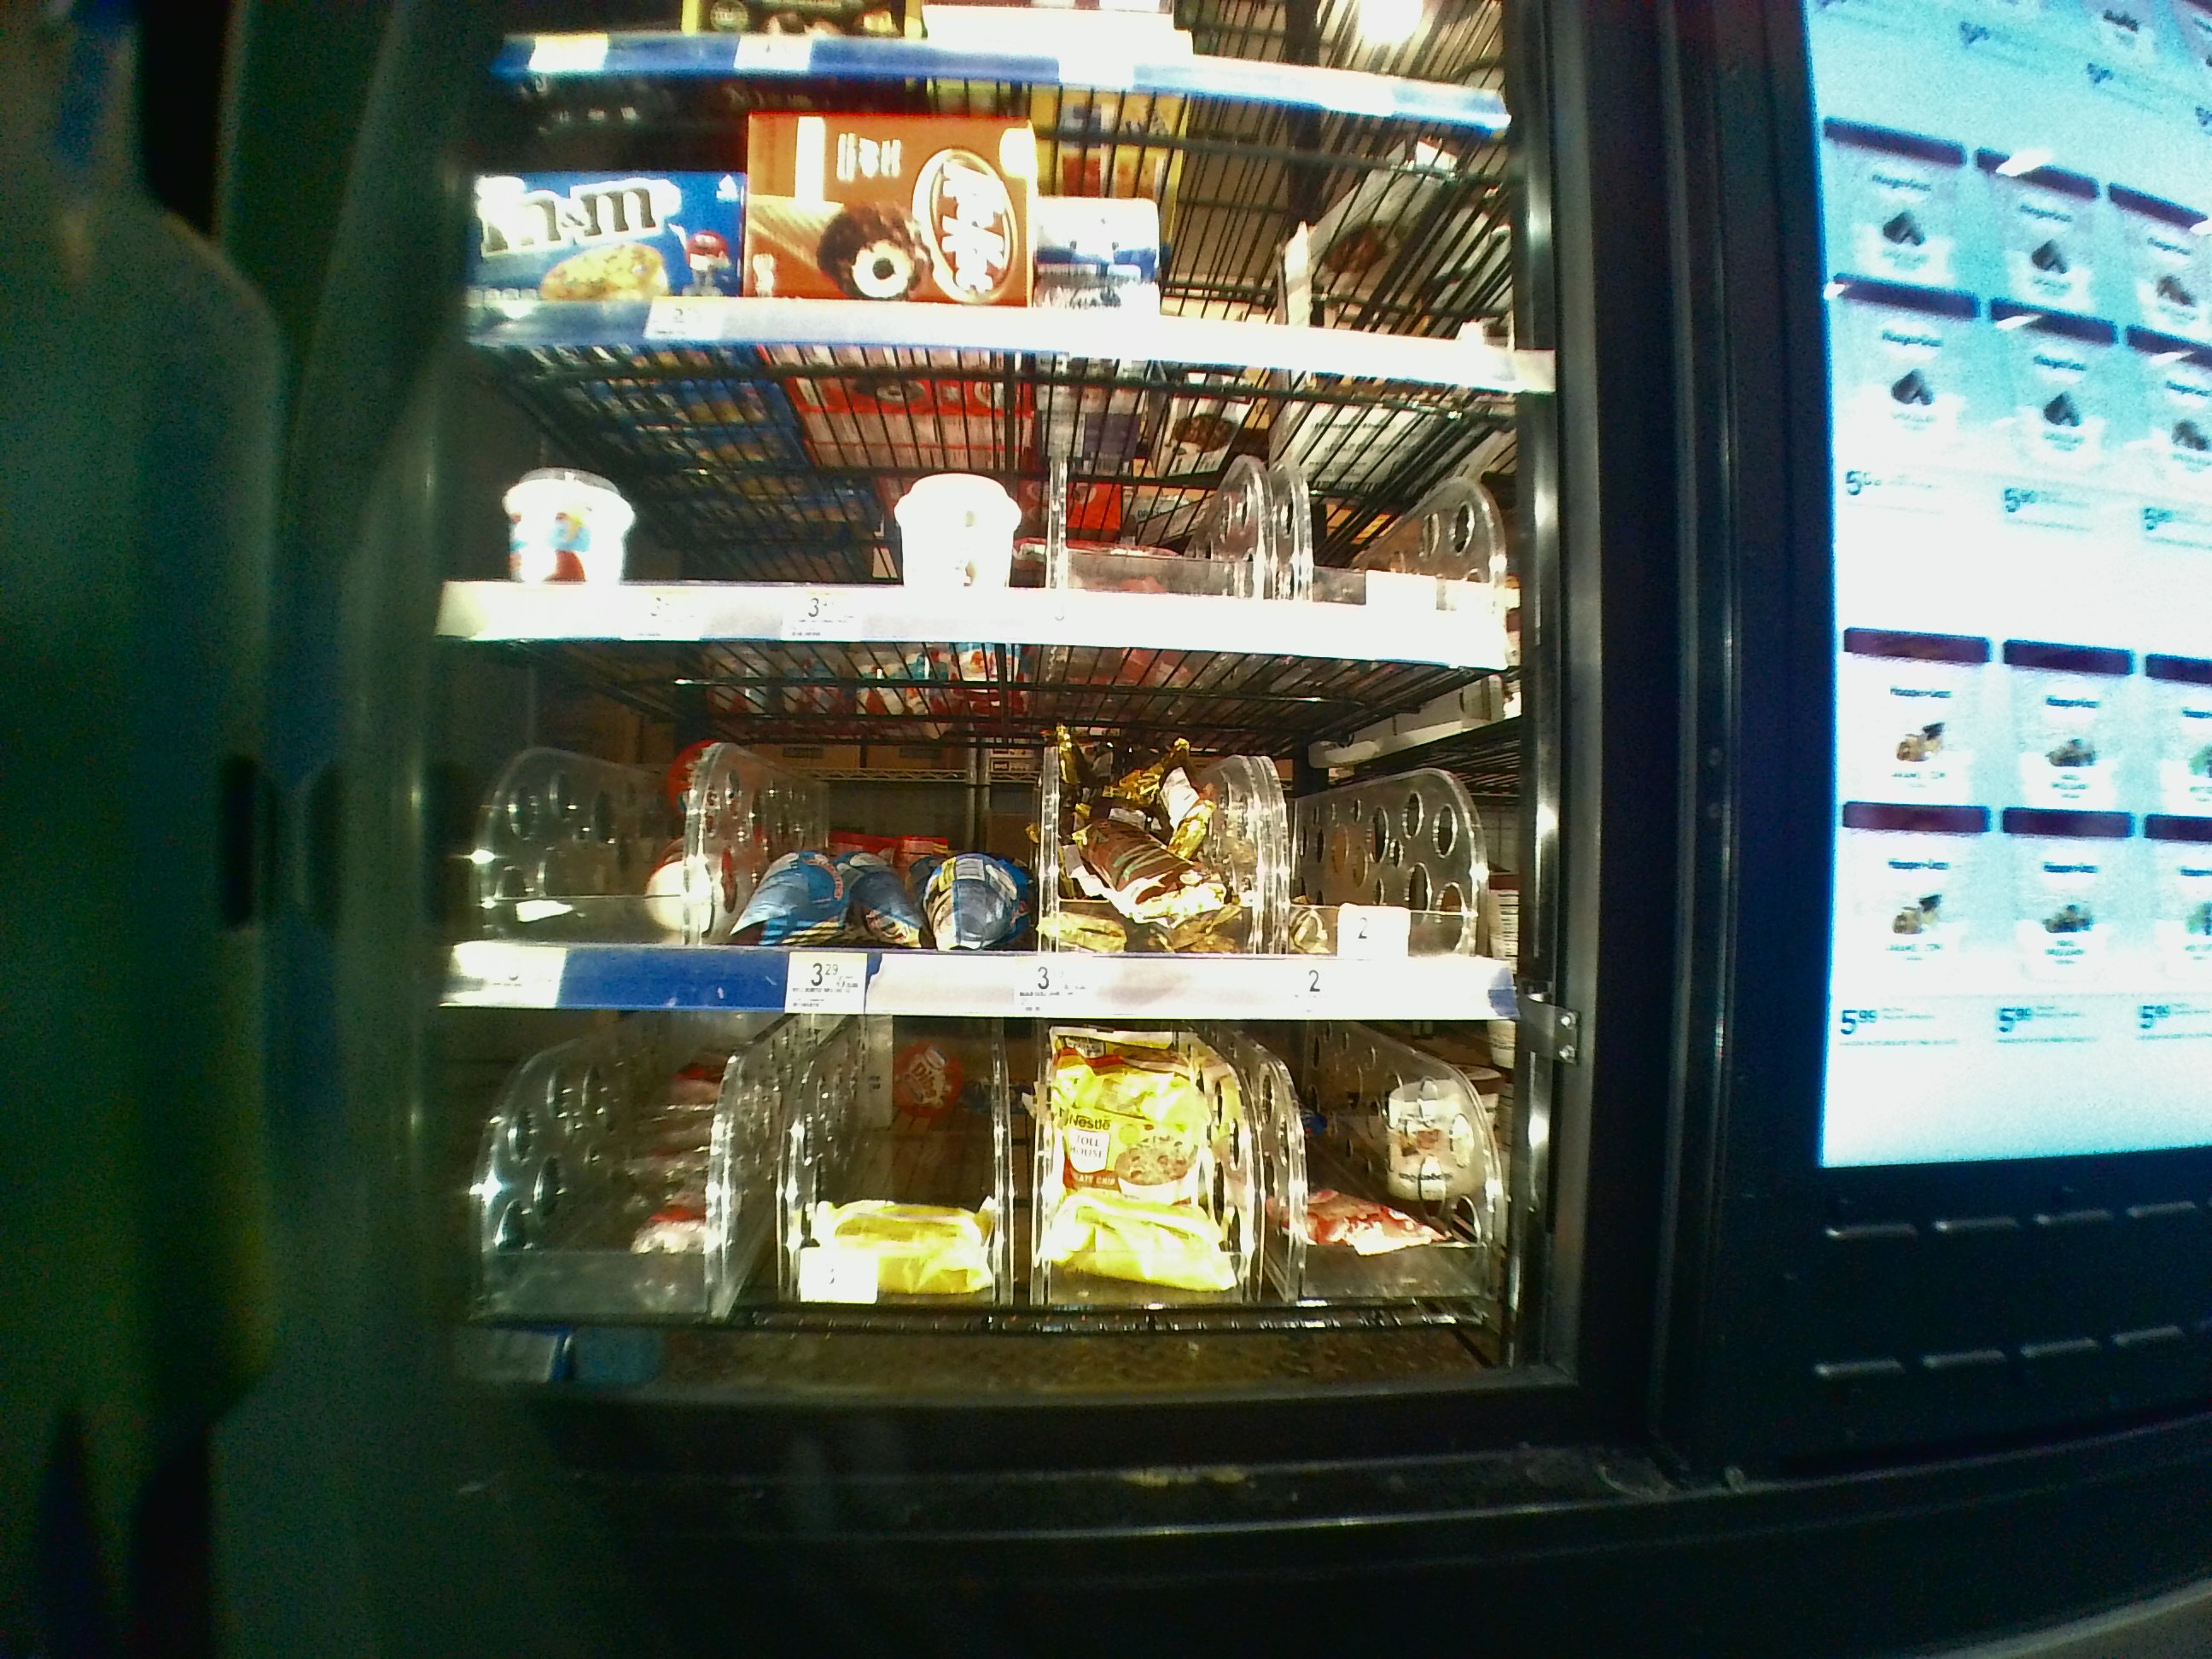shelf: (434, 1014, 1521, 1419), (428, 659, 1526, 1000), (434, 329, 1529, 636)
